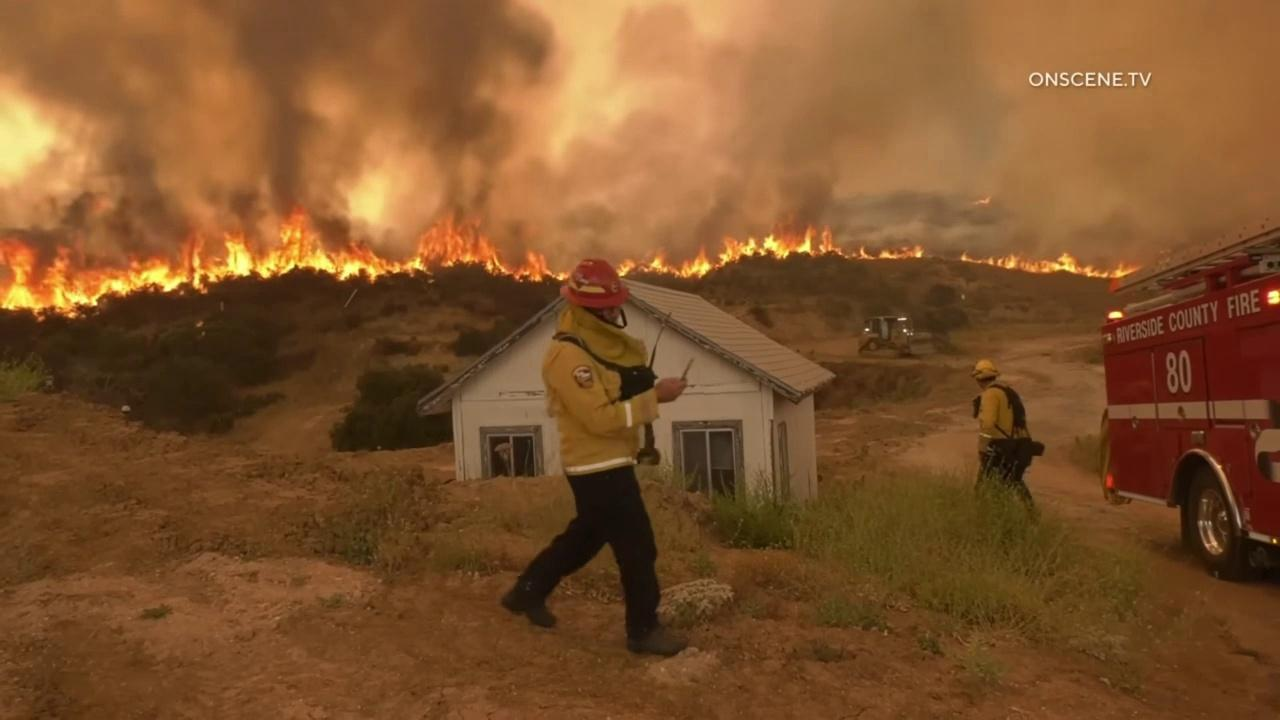fire: (0, 198, 572, 323), (616, 222, 925, 280), (960, 248, 1142, 279), (973, 195, 992, 206), (195, 321, 204, 328)
smoke: (0, 0, 1280, 270)
